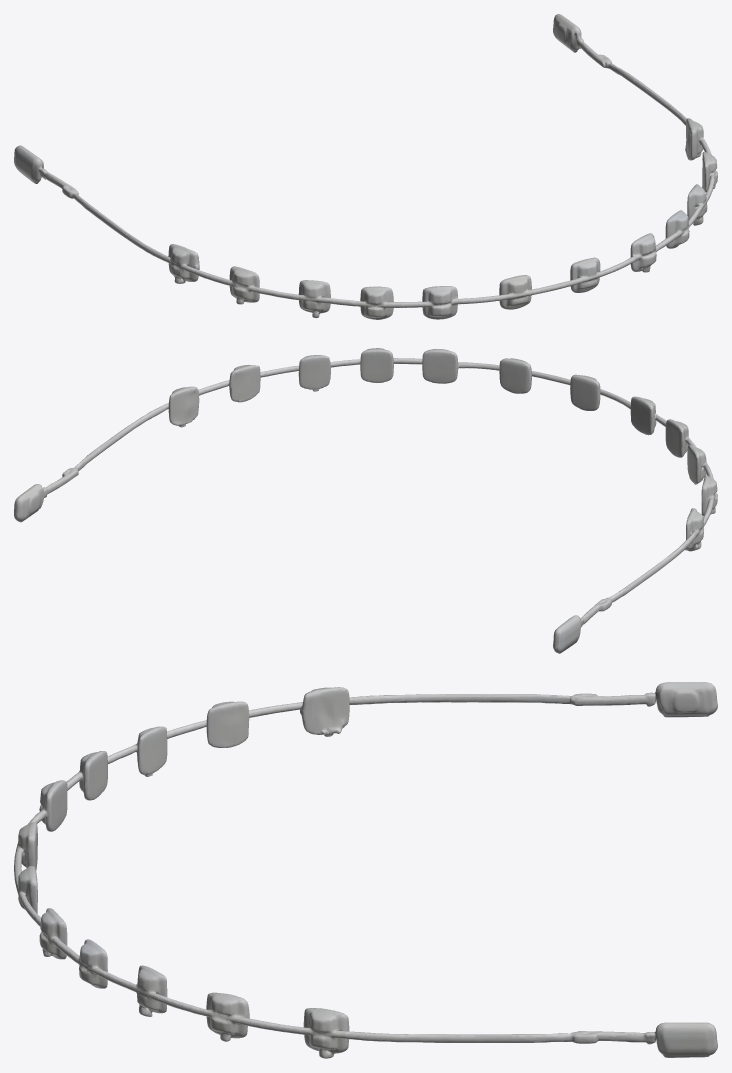
The model's file is braces.glb.
3 renders of one model, top to bottom at view 1: azimuth 30°, elevation 25°; view 2: azimuth 150°, elevation 25°; view 3: azimuth 270°, elevation 25°, orthographic. The views are drawn at different scales.
Visible parts, largest first — view 1: tripo_node_7ec09256-d07d-4394-9b0e-3b4c4f8e29e2; view 2: tripo_node_7ec09256-d07d-4394-9b0e-3b4c4f8e29e2; view 3: tripo_node_7ec09256-d07d-4394-9b0e-3b4c4f8e29e2.
Boxes of the visible parts, bbox=[...] form: tripo_node_7ec09256-d07d-4394-9b0e-3b4c4f8e29e2: bbox=[14, 14, 717, 319]; tripo_node_7ec09256-d07d-4394-9b0e-3b4c4f8e29e2: bbox=[14, 348, 717, 653]; tripo_node_7ec09256-d07d-4394-9b0e-3b4c4f8e29e2: bbox=[14, 682, 717, 1058].
Bounding box in the file's own units: 0.9999 × 0.0639 × 0.8581.
1 material, 1 textured.
